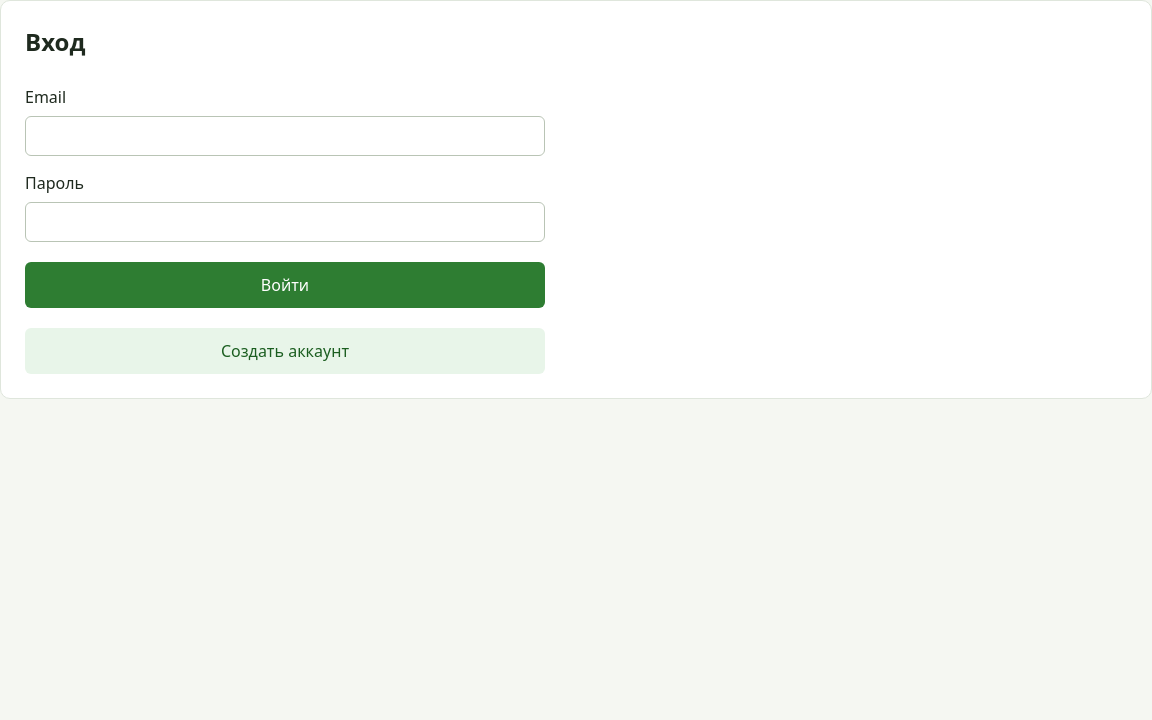
Test: регистрация показывает details.email
Click the button "Создать аккаунт". click: coordinates (285, 351)
box: [25, 328, 545, 374]
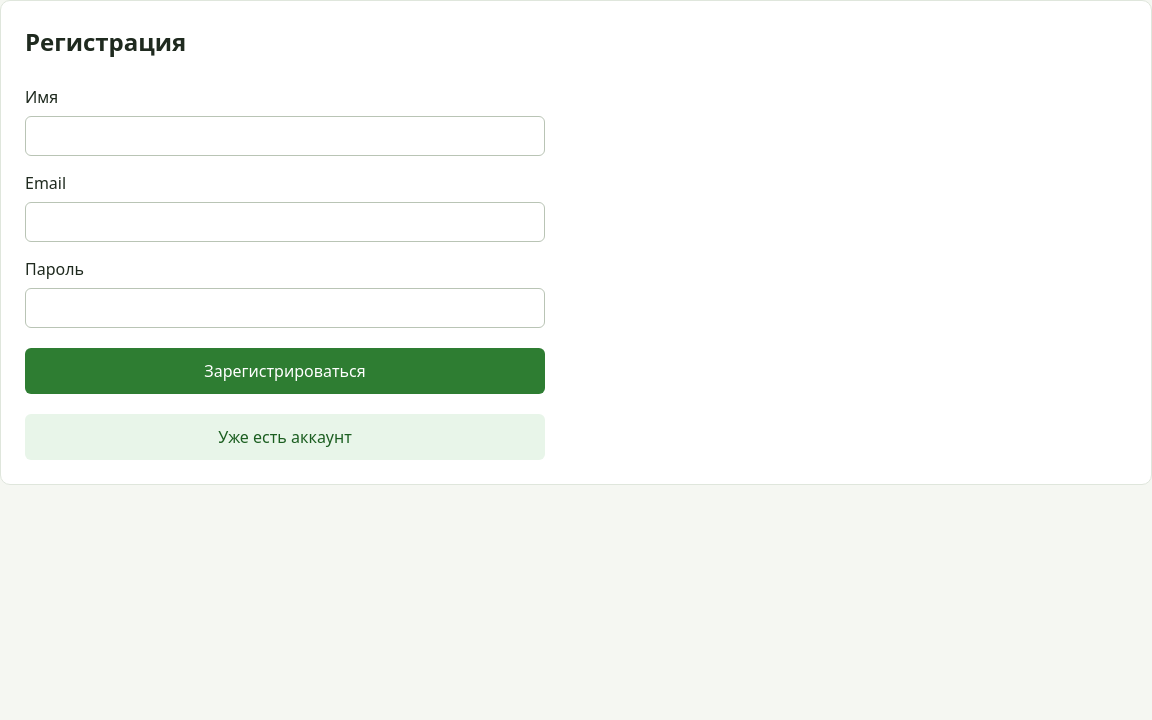
Type "Анна" into the field labelled "Имя". click: coordinates (285, 136)
box: [25, 116, 545, 156]
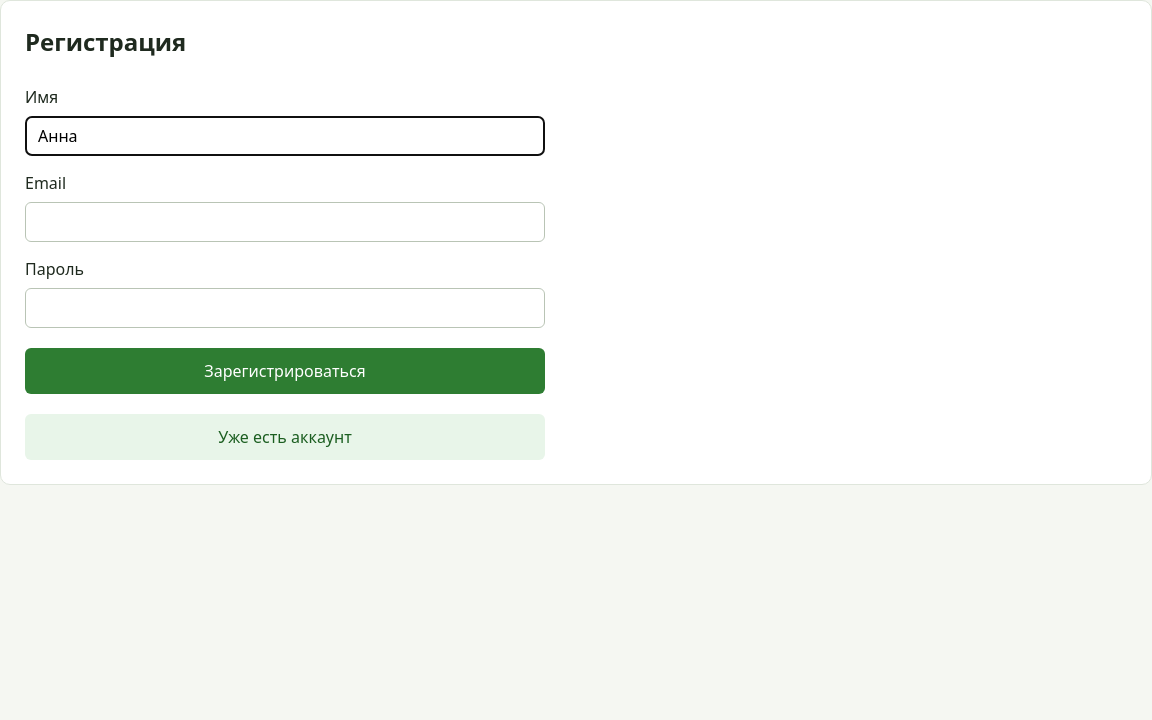
Type "test@example.test" into the field labelled "Email". click: coordinates (285, 222)
box: [25, 202, 545, 242]
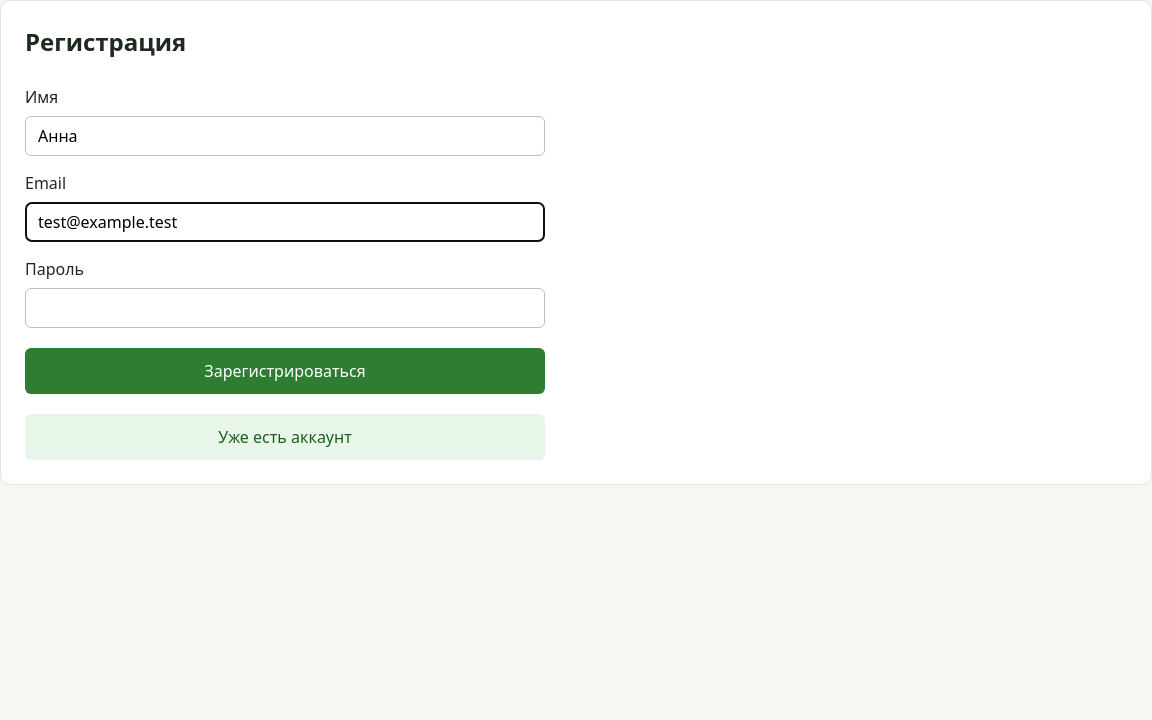
Type "Password123" into the password field labelled "Пароль". click: coordinates (285, 308)
box: [25, 288, 545, 328]
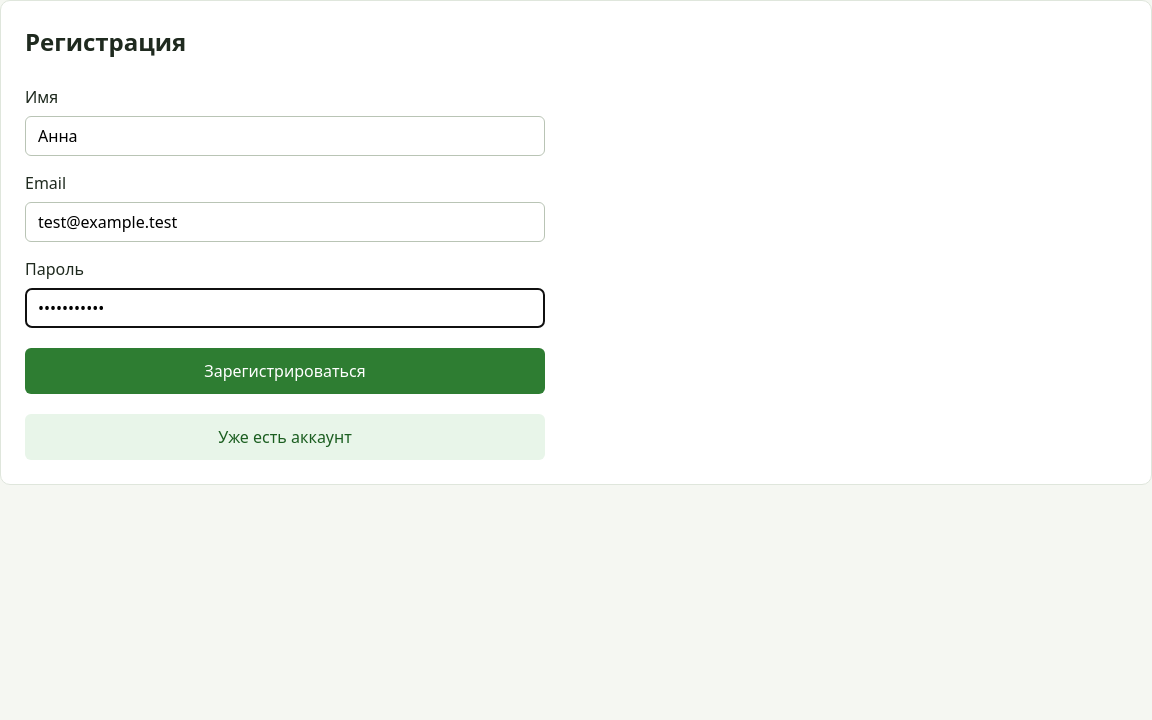
Click the button "Зарегистрироваться". click: coordinates (285, 371)
box: [25, 348, 545, 394]
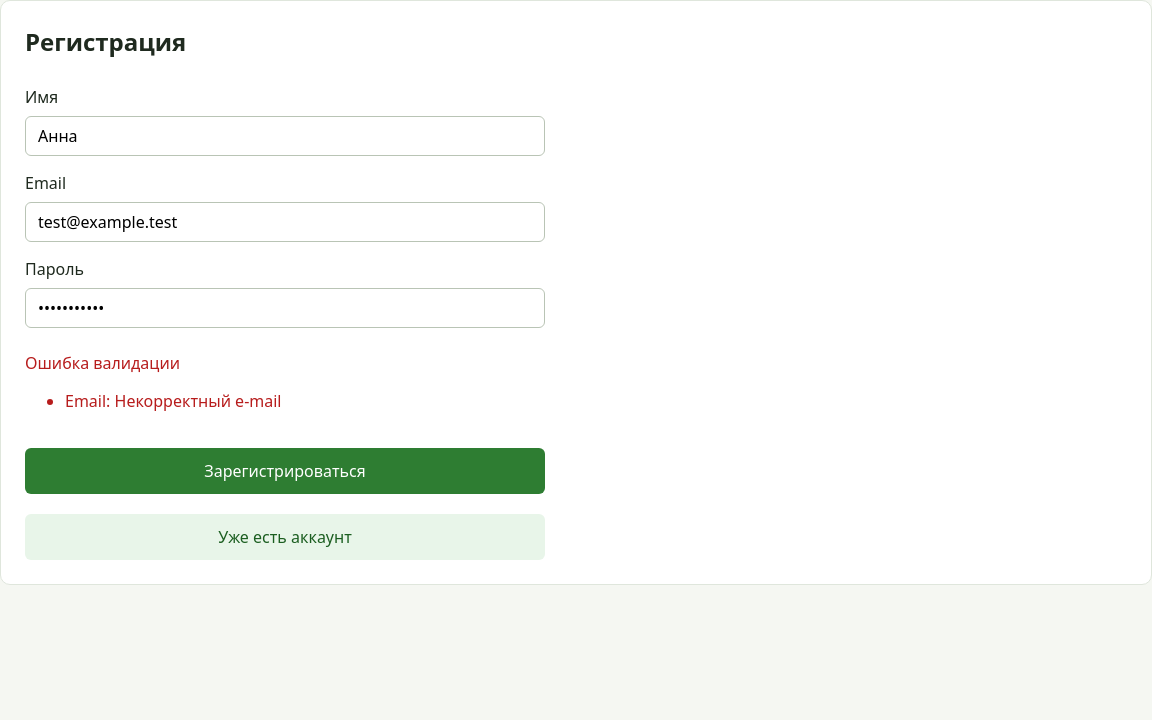
expect the message shows "Email: Некорректный e-mail": met, box [25, 352, 282, 412]
